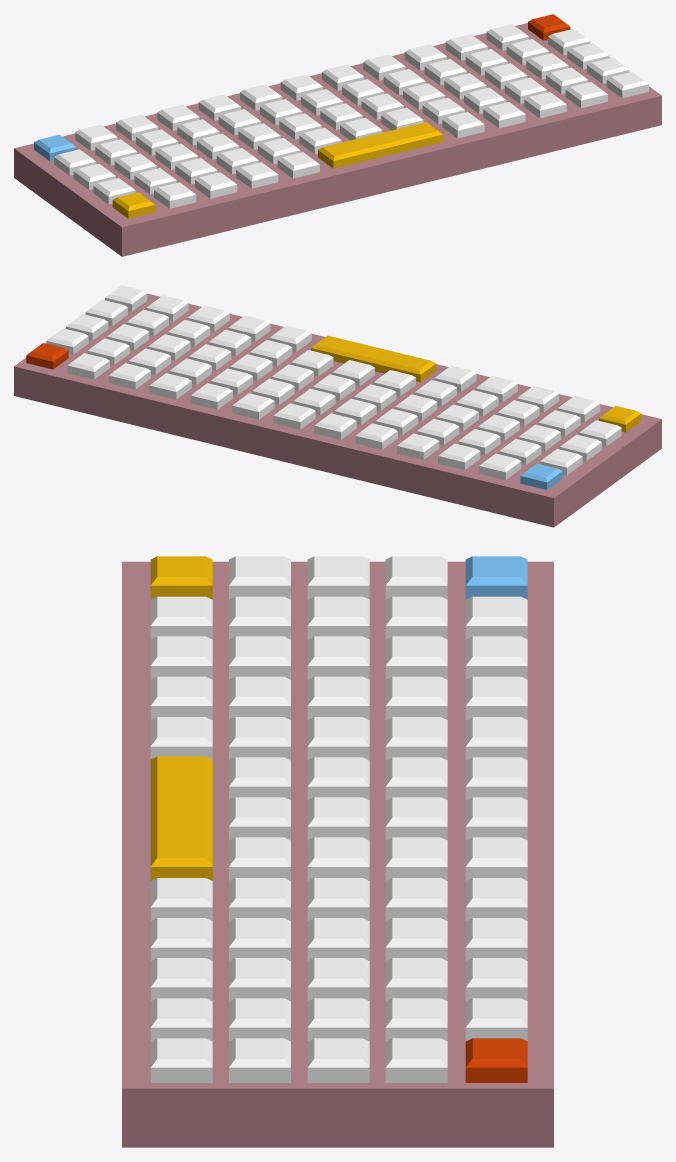
Rendered from Keyboard_1C.fbx.
The picture shows the model from 3 angles, top to bottom: view 1: azimuth 30°, elevation 25°; view 2: azimuth 150°, elevation 25°; view 3: azimuth 270°, elevation 25°; orthographic projection. The views are drawn at different scales.
Visible parts, largest first — view 1: Keyboard_1C; view 2: Keyboard_1C; view 3: Keyboard_1C.
Part boxes in pixels (left/top/right/bottom): Keyboard_1C: left=14, top=14, right=661, bottom=256; Keyboard_1C: left=14, top=285, right=661, bottom=527; Keyboard_1C: left=122, top=556, right=553, bottom=1147.
Bounding box in the file's own units: 0.3327 × 0.0236 × 0.1153.
